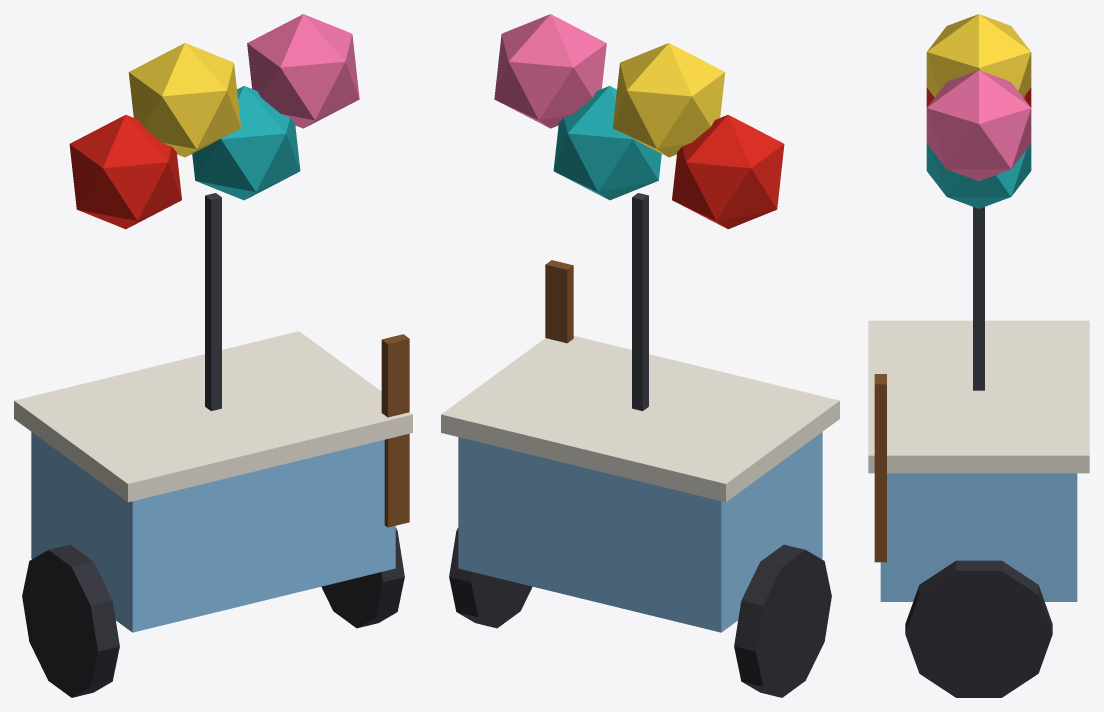
File: ticket_balloon_cart.glb
3 renders of one model, left to right at view 1: azimuth 30°, elevation 25°; view 2: azimuth 150°, elevation 25°; view 3: azimuth 270°, elevation 25°, orthographic. The views are drawn at different scales.
Parts seen in each view (by area): view 1: ticket_balloon_cart; view 2: ticket_balloon_cart; view 3: ticket_balloon_cart.
Boxes of the visible parts, <box> form: ticket_balloon_cart: <box>14,14,412,697</box>; ticket_balloon_cart: <box>441,14,839,697</box>; ticket_balloon_cart: <box>868,14,1089,697</box>.
Size of the model in its own units: 1.4 by 2.69 by 0.9.
